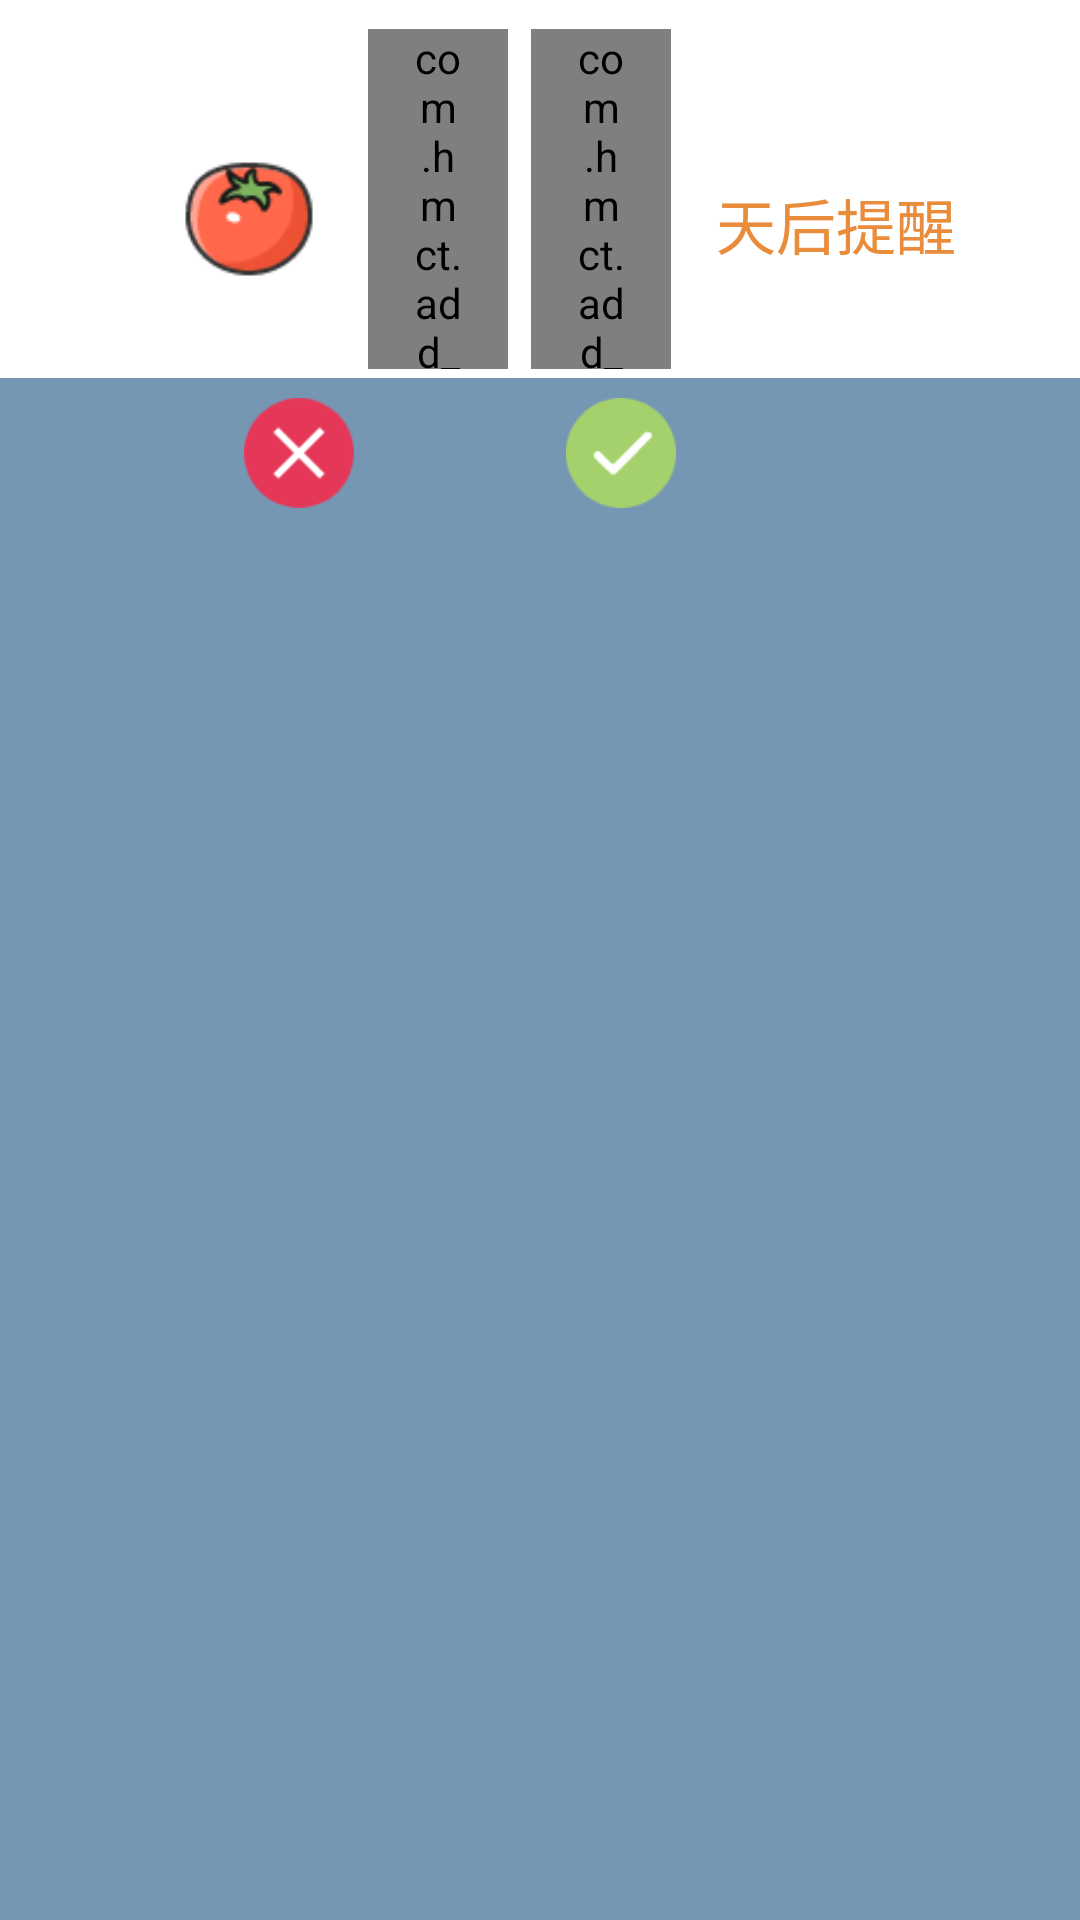

Icon bounding boxes for this 1080 x 1920 phone screenshot, format (x1, y1, x2, y2):
correct: (566, 398, 676, 508)
fault: (244, 398, 354, 508)
tomato: (185, 162, 313, 276)
